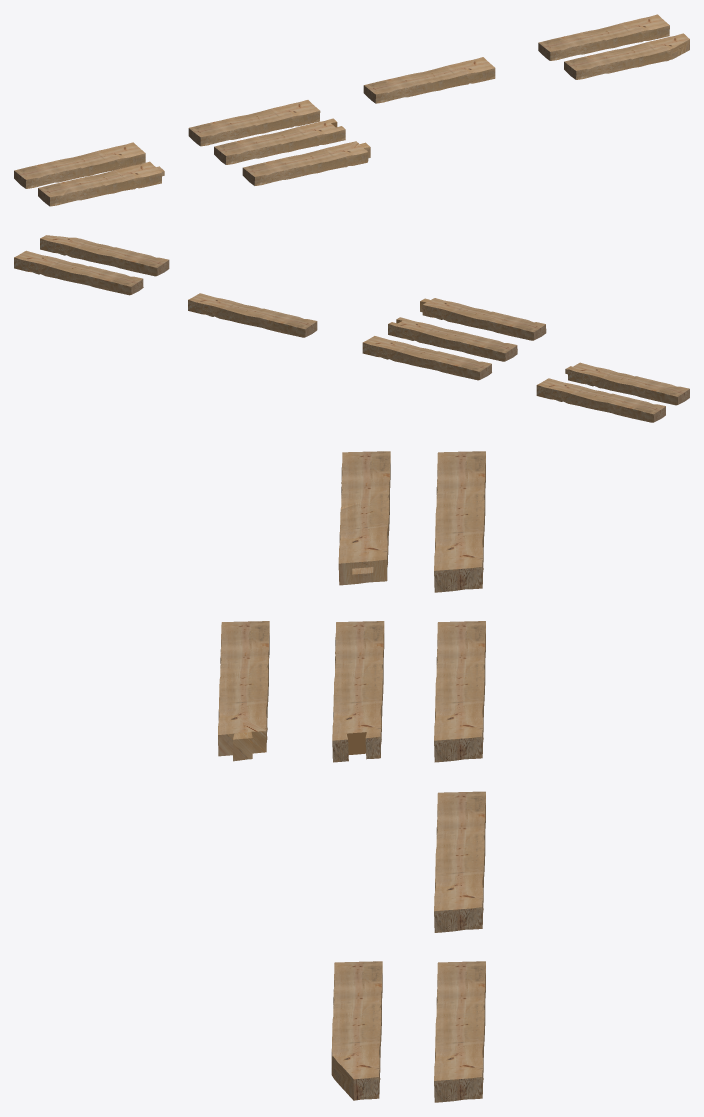
The model's file is MuTou.fbx.
3 views of the same model, one above another, from view 1: azimuth 30°, elevation 25°; view 2: azimuth 150°, elevation 25°; view 3: azimuth 270°, elevation 25° (orthographic). The views are drawn at different scales.
Parts seen in each view (by area): view 1: MuTou (×2), XiuBianJi_MuTou, MuTou6, MuTou4, MuTou3, MuTou1, MuTou7; view 2: MuTou (×2), MuTou6, XiuBianJi_MuTou, MuTou4, MuTou7, MuTou3, MuTou1; view 3: MuTou (×2), XiuBianJi_MuTou, MuTou6, MuTou4, MuTou3, MuTou7, MuTou1.
Part boxes in pixels (box(x1,y1,x2,y2)): MuTou (×2): box(14, 100, 320, 188); XiuBianJi_MuTou: box(363, 57, 495, 103); MuTou6: box(538, 14, 669, 60); MuTou4: box(214, 118, 345, 164); MuTou3: box(242, 141, 370, 185); MuTou1: box(38, 161, 164, 206); MuTou7: box(564, 33, 689, 79); MuTou (×2): box(362, 336, 665, 422); MuTou6: box(14, 250, 143, 295); XiuBianJi_MuTou: box(188, 293, 317, 337); MuTou4: box(388, 317, 517, 361); MuTou7: box(40, 235, 169, 276); MuTou3: box(420, 298, 546, 340); MuTou1: box(565, 362, 689, 405); MuTou (×2): box(434, 451, 485, 762); XiuBianJi_MuTou: box(434, 791, 485, 932); MuTou6: box(434, 961, 485, 1102); MuTou4: box(332, 621, 384, 762); MuTou3: box(218, 621, 269, 761); MuTou7: box(331, 961, 382, 1100); MuTou1: box(338, 451, 390, 585).
Bounding box in the file's own units: 218 × 4.29 × 39.55.
Materials: 1 (1 with a texture image).
